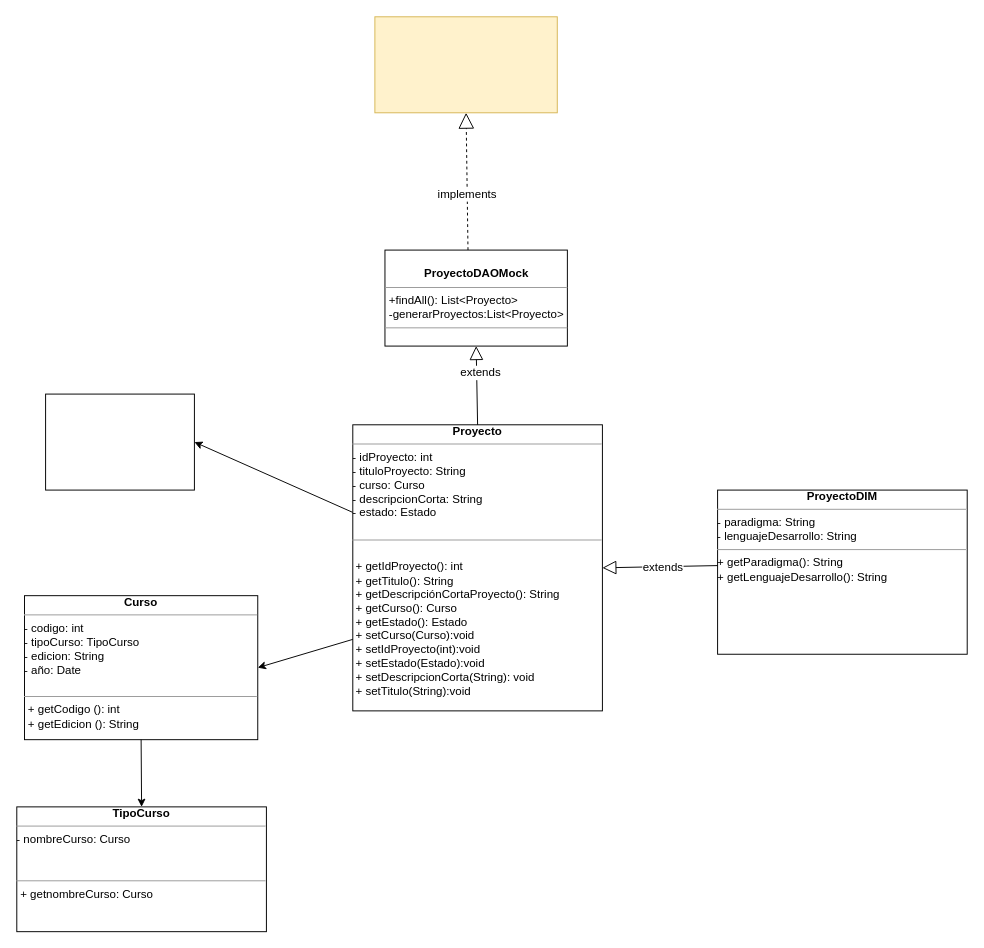
The diagram is 984 pixels wide and 948 high, and some of its shapes have lost their labels. The centre of each missing label's shape, as x and y in pixels:
<<Enumeration>> Estado ABIERTO CERRADO: point (119, 441)
<<interface>> ProyectoDAO: point (465, 64)
